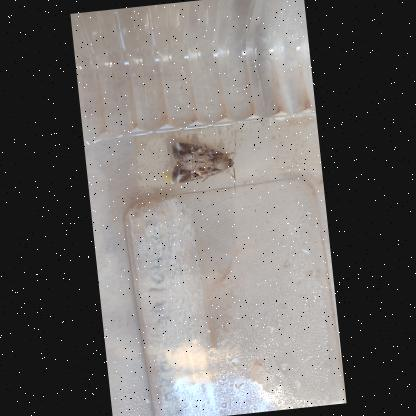Fall Armyworm Moth: (166, 127, 246, 201)
